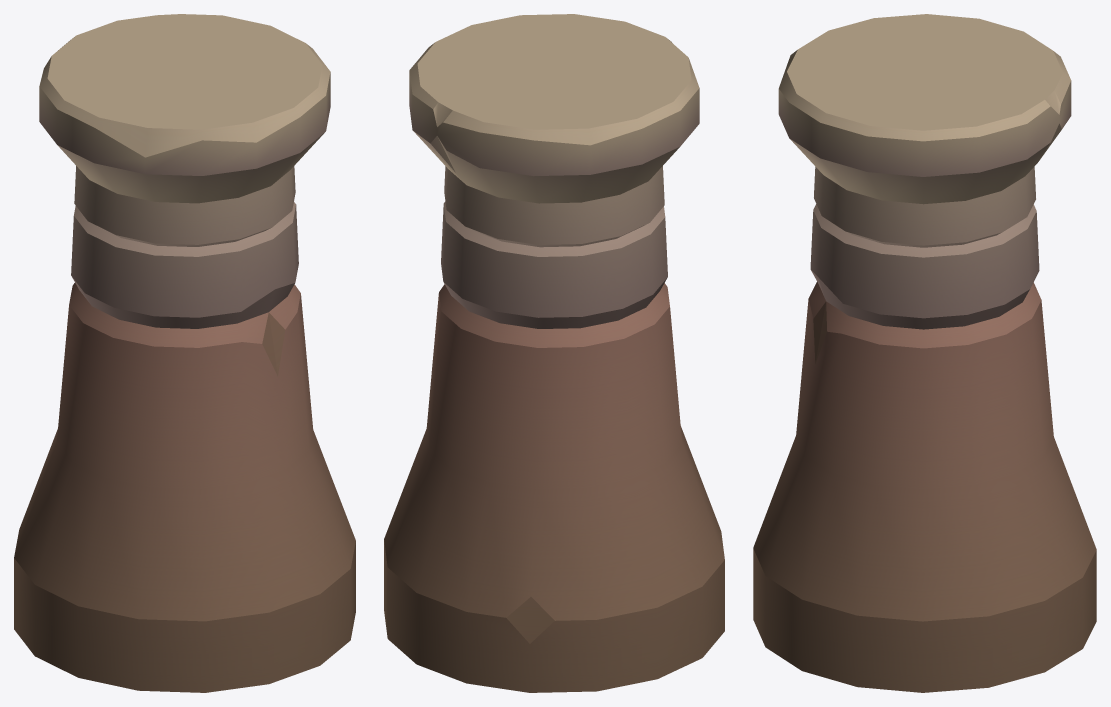
The model's file is WallCorner.fbx.
3 renders of one model, left to right at view 1: azimuth 30°, elevation 25°; view 2: azimuth 150°, elevation 25°; view 3: azimuth 270°, elevation 25°, orthographic.
Parts seen in each view (by area): view 1: WallCorner; view 2: WallCorner; view 3: WallCorner.
Boxes of the visible parts, box(x1,y1,x2,y2) form: WallCorner: box(14, 14, 355, 692); WallCorner: box(384, 14, 724, 692); WallCorner: box(753, 14, 1096, 692).
Size of the model in its own units: 529 by 930 by 529.
